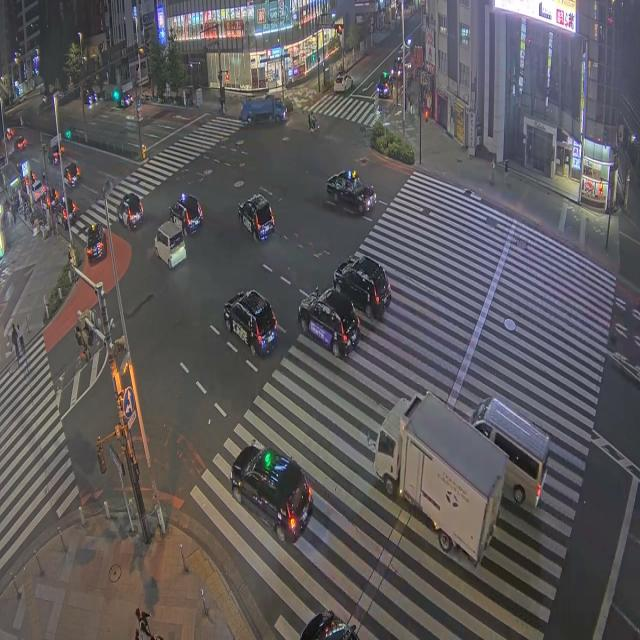car: (231, 444, 312, 543), (298, 288, 359, 357), (334, 256, 391, 318), (224, 290, 277, 355), (327, 171, 376, 215), (238, 194, 274, 240), (300, 611, 358, 639), (169, 194, 203, 234), (118, 193, 143, 230), (87, 224, 106, 262), (56, 198, 76, 228), (377, 72, 392, 98), (64, 163, 79, 187), (334, 73, 352, 92), (48, 145, 64, 165), (392, 51, 403, 79), (46, 185, 59, 207), (32, 181, 45, 202), (15, 136, 26, 151), (122, 94, 132, 107), (6, 128, 15, 140)
truck: (374, 393, 507, 564)
van: (472, 399, 549, 507), (155, 222, 186, 269)
